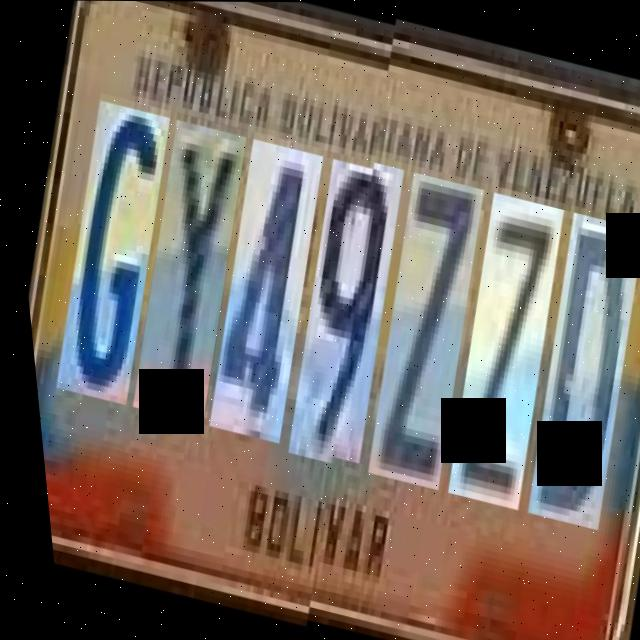4: (179, 130, 343, 437)
9: (257, 151, 423, 463)
D: (494, 211, 640, 530)
G: (26, 92, 191, 399)
Y: (102, 112, 268, 418)
Z: (414, 191, 583, 510), (334, 171, 502, 490)
